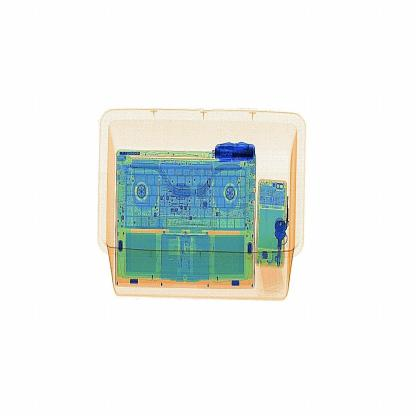scissors: (210, 139, 258, 172)
